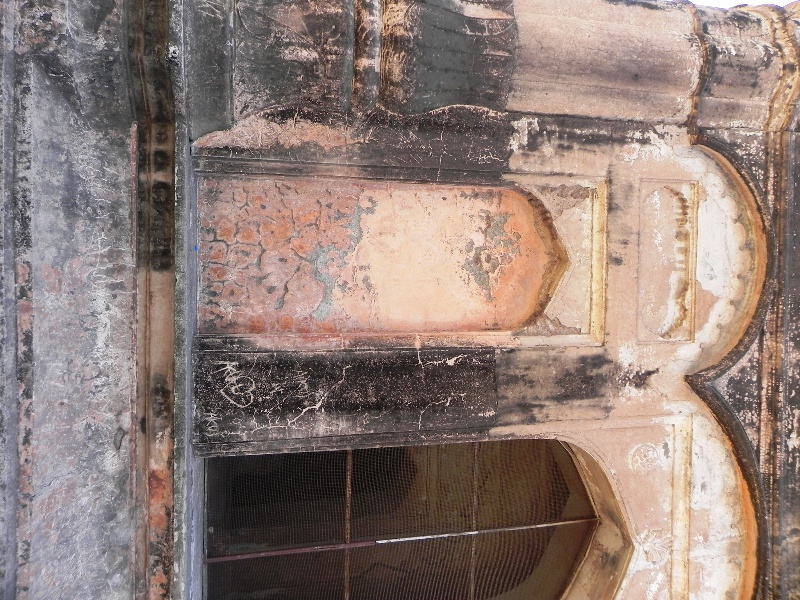Spalling: (513, 305, 583, 331), (523, 177, 609, 198)
